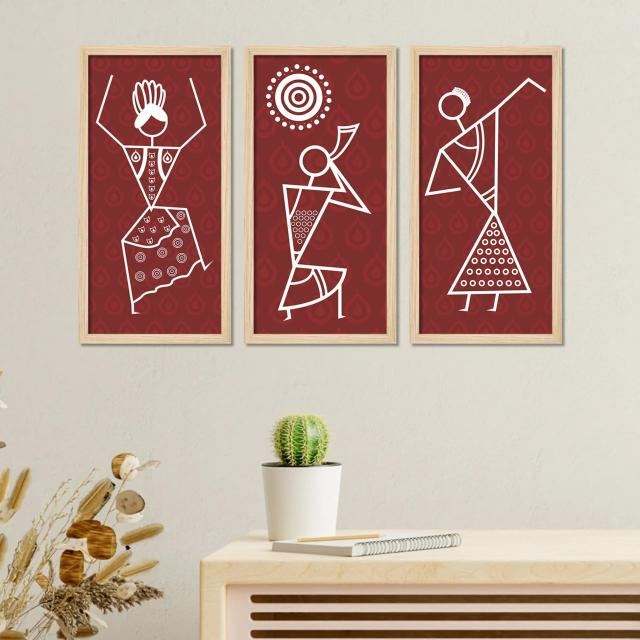painting: (247, 44, 401, 347), (78, 43, 232, 345), (412, 45, 565, 348)
